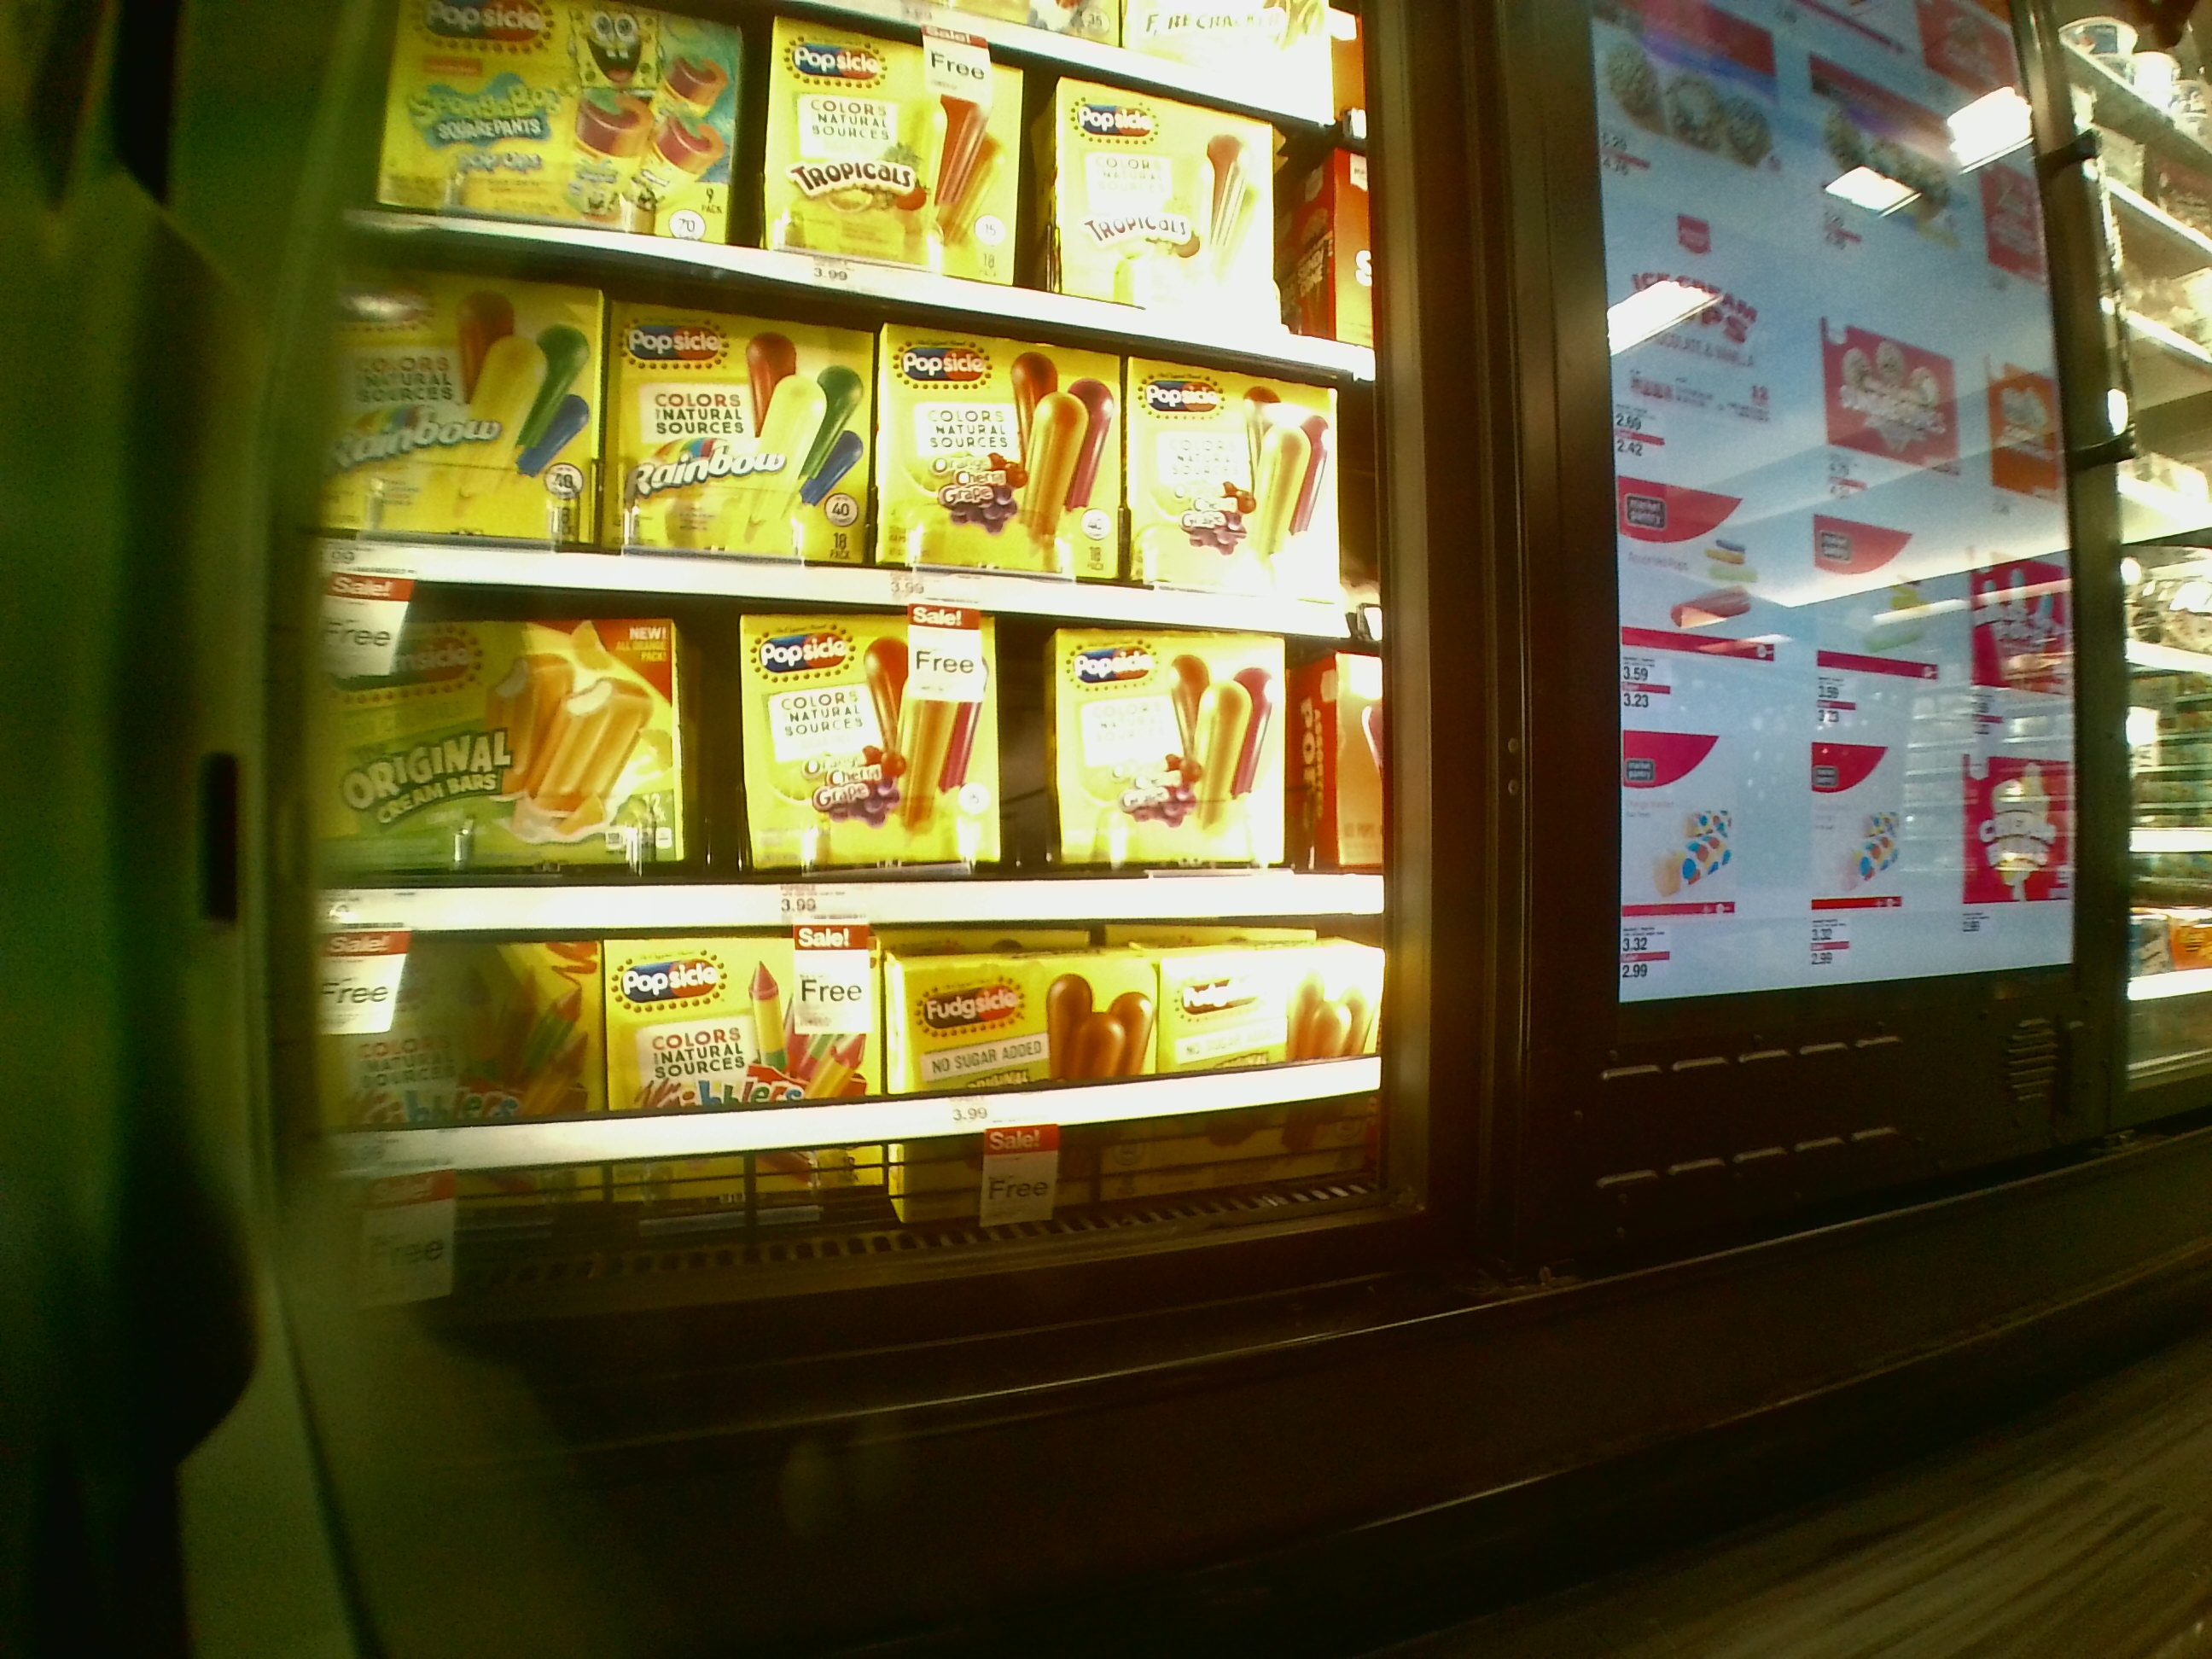shelf: (315, 587, 1379, 929), (326, 291, 1369, 599), (326, 938, 1362, 1227)
